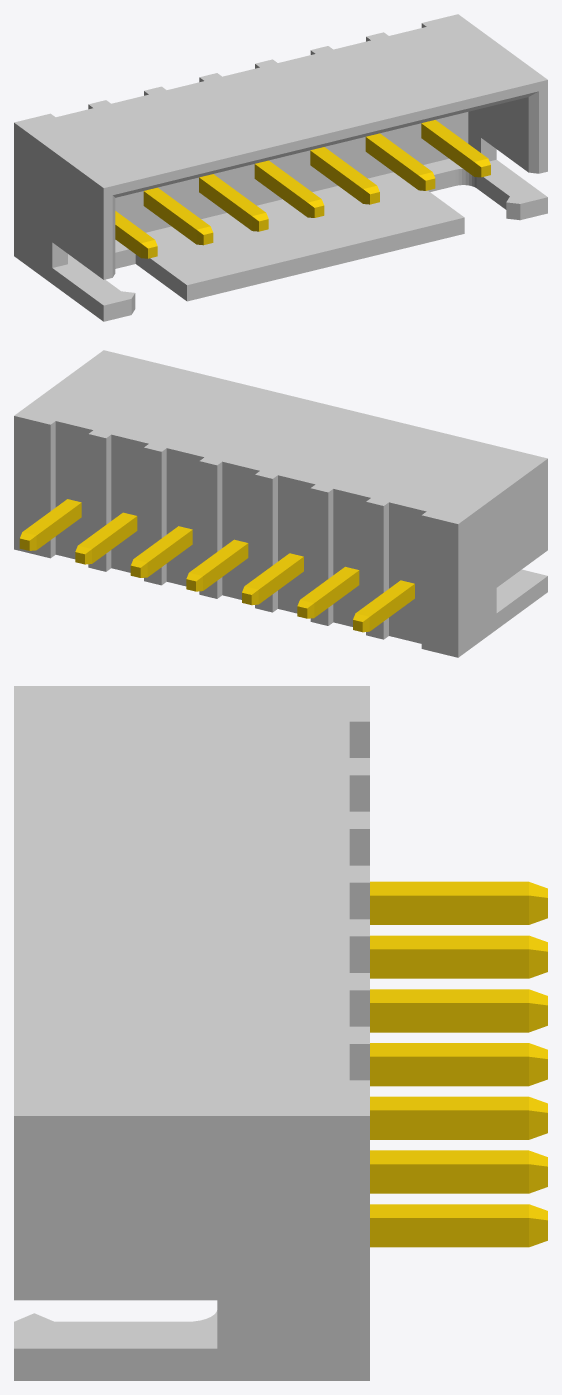
Rendered from DS1069-7 CWF-7.obj.
The picture shows the model from 3 angles, top to bottom: view 1: azimuth 30°, elevation 25°; view 2: azimuth 150°, elevation 25°; view 3: azimuth 270°, elevation 25°; orthographic projection. The views are drawn at different scales.
Parts seen in each view (by area): view 1: DS1069-7_CWF-7; view 2: DS1069-7_CWF-7; view 3: DS1069-7_CWF-7.
Boxes of the visible parts, x1,y1,x2,y2 form: DS1069-7_CWF-7: [14, 14, 547, 321]; DS1069-7_CWF-7: [14, 350, 547, 657]; DS1069-7_CWF-7: [14, 686, 547, 1380].
Size of the model in its own units: 0.0249 by 0.00715 by 0.0131.
